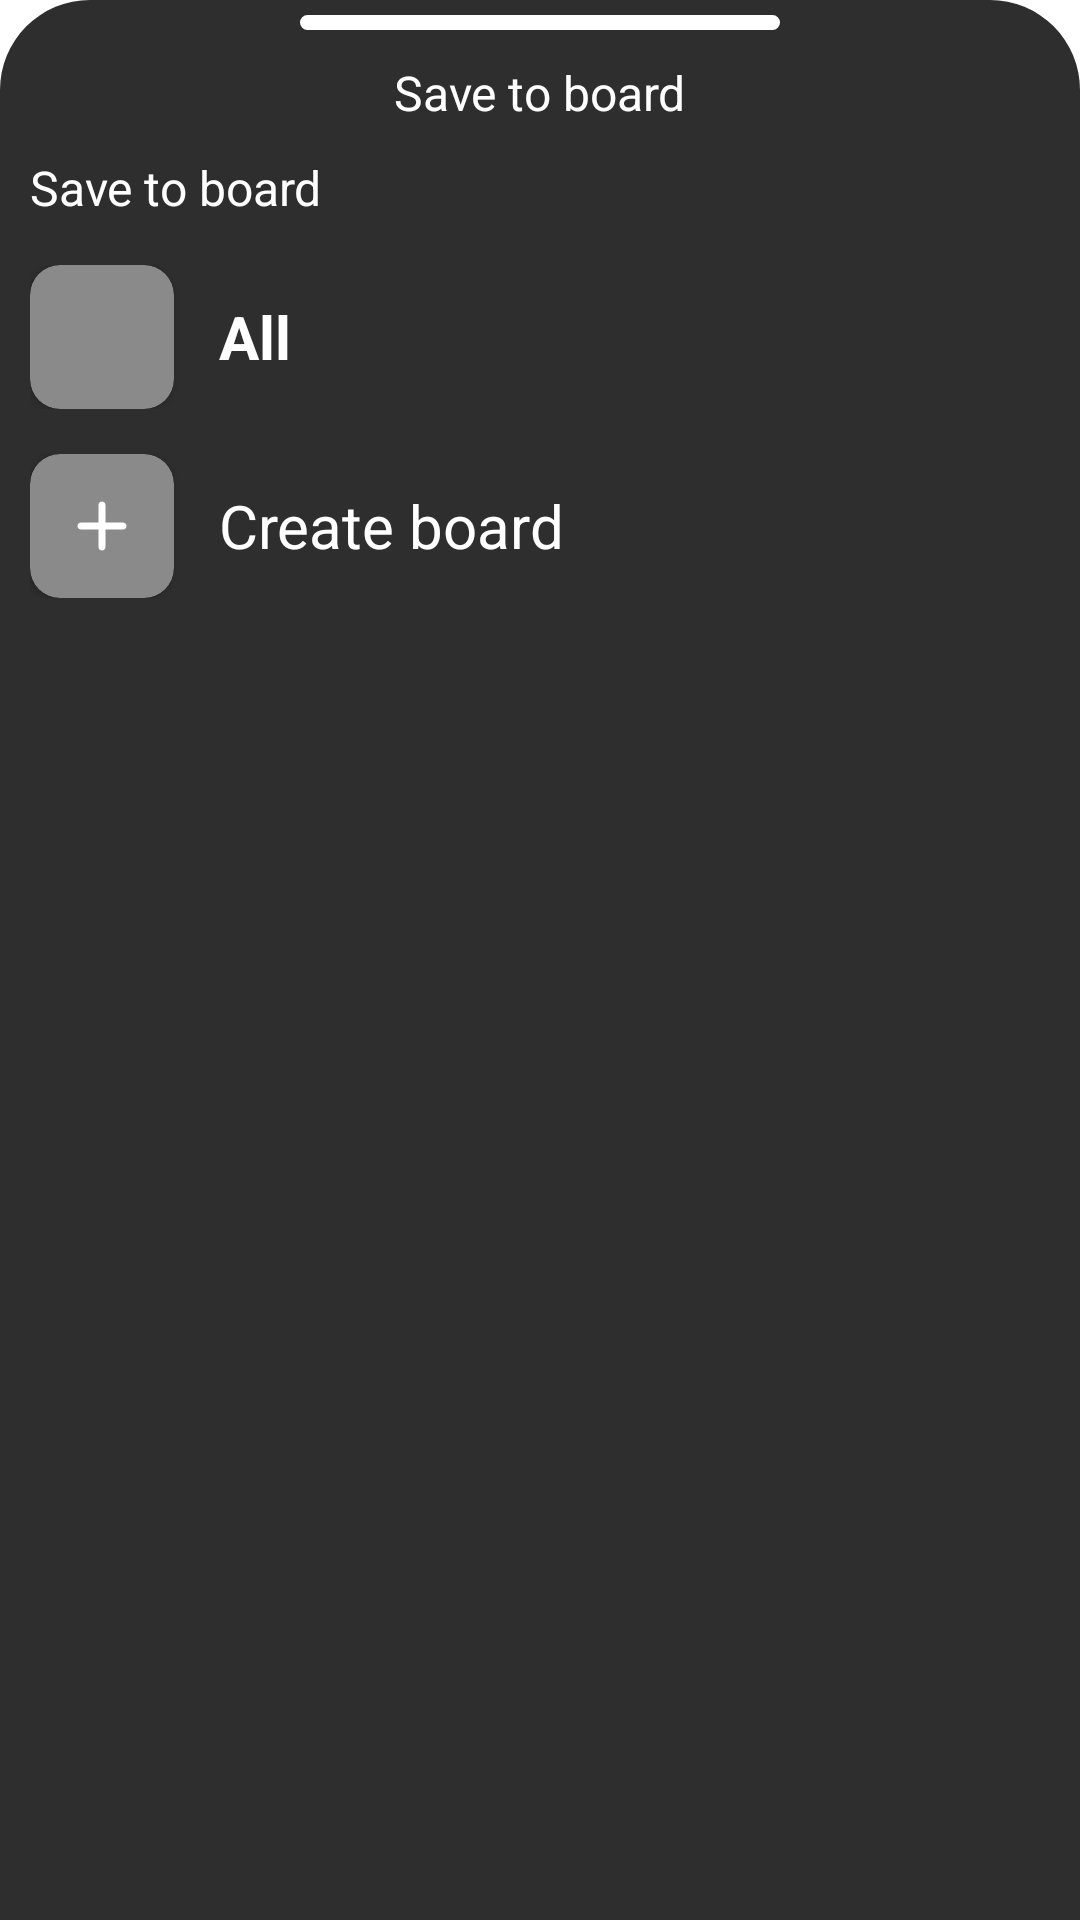

Named icons in this screenshot (1080px×1920px) and their bounding boxes, (x1, y1, x2, y2):
add: (77, 501, 127, 551)
